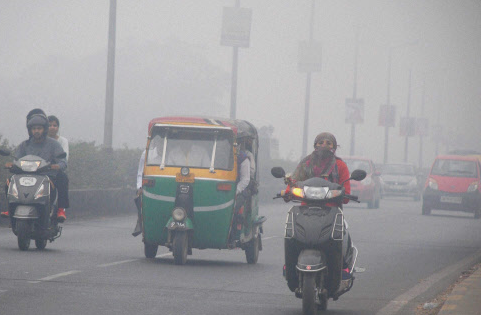backpack: (276, 163, 362, 296), (282, 147, 370, 223), (285, 168, 352, 253), (17, 115, 67, 216), (5, 146, 61, 227), (288, 133, 353, 201), (285, 171, 356, 203), (301, 151, 359, 188), (290, 204, 343, 244), (292, 142, 343, 183), (320, 144, 356, 201), (231, 148, 256, 228), (164, 196, 195, 260), (336, 219, 360, 296), (227, 180, 253, 250), (13, 144, 64, 173), (172, 165, 195, 221), (237, 151, 258, 204), (313, 145, 346, 177), (49, 116, 69, 167), (304, 152, 338, 180), (297, 148, 330, 174), (341, 231, 358, 281), (174, 181, 193, 215), (131, 192, 144, 236), (334, 156, 351, 189), (315, 153, 336, 176), (309, 150, 333, 170), (330, 209, 345, 241), (325, 157, 342, 181), (284, 206, 296, 238), (332, 157, 345, 186), (312, 157, 328, 176), (330, 159, 339, 182), (271, 166, 286, 177)
bicycle: (293, 246, 329, 313), (283, 234, 312, 294)
bottle: (57, 207, 66, 222)
bus: (143, 117, 277, 264), (200, 119, 261, 245), (146, 116, 260, 182), (286, 134, 386, 206)
car: (179, 119, 362, 278), (145, 118, 276, 263), (279, 166, 360, 300), (271, 138, 392, 223), (134, 189, 263, 265), (312, 151, 435, 216), (204, 127, 262, 256), (287, 131, 351, 241), (306, 154, 373, 255), (353, 156, 453, 211), (298, 152, 380, 209), (286, 138, 357, 196), (419, 154, 481, 216), (229, 142, 264, 248), (399, 157, 466, 208), (310, 157, 352, 220), (365, 165, 426, 208), (349, 159, 406, 204), (10, 205, 64, 250), (338, 155, 383, 208), (326, 150, 368, 202), (334, 222, 360, 300), (377, 162, 419, 196), (428, 154, 477, 183), (356, 157, 385, 200), (367, 160, 391, 201), (394, 166, 424, 192), (376, 159, 414, 179), (377, 161, 402, 191), (380, 165, 413, 185), (382, 172, 414, 191), (369, 165, 384, 205), (410, 165, 427, 193), (284, 207, 295, 237), (271, 166, 286, 177)
cell phone: (172, 166, 195, 220), (175, 174, 193, 208), (175, 166, 195, 196), (180, 166, 190, 175)
chair: (131, 190, 145, 236)
clock: (180, 166, 190, 175)
dog: (171, 164, 195, 225)
frisbee: (180, 166, 191, 176)
hair drier: (178, 166, 194, 180), (180, 166, 190, 175)
handbag: (290, 204, 343, 244), (338, 214, 360, 285), (172, 166, 195, 222), (175, 166, 194, 198), (284, 207, 296, 238), (331, 211, 343, 240), (57, 207, 66, 222)
kite: (345, 97, 363, 123), (377, 102, 395, 127)
motorcycle: (229, 143, 362, 303), (145, 118, 276, 263), (284, 169, 373, 311), (298, 157, 394, 274), (265, 165, 353, 277), (134, 189, 263, 265), (287, 131, 351, 241), (8, 114, 69, 223), (293, 187, 359, 284), (4, 151, 66, 251), (280, 146, 377, 208), (286, 226, 353, 312), (275, 195, 330, 296), (329, 182, 372, 304), (301, 160, 355, 256), (268, 162, 350, 225), (264, 165, 310, 261), (1, 134, 49, 214), (230, 143, 263, 254), (283, 139, 350, 192), (37, 137, 71, 227), (275, 165, 317, 227), (9, 203, 64, 250), (293, 247, 329, 313), (285, 239, 325, 296), (6, 172, 50, 222), (272, 171, 339, 202), (334, 225, 360, 301), (163, 206, 194, 264), (272, 170, 303, 202), (280, 184, 306, 201), (275, 182, 295, 201), (272, 189, 300, 202), (272, 192, 289, 201)
mouse: (271, 166, 286, 177), (181, 165, 191, 175)
parking meter: (144, 117, 278, 265), (172, 166, 195, 222)
person: (232, 125, 375, 277), (287, 166, 371, 307), (135, 170, 259, 263), (312, 153, 389, 285), (294, 139, 375, 241), (34, 112, 117, 210), (318, 130, 395, 218), (209, 134, 262, 258), (273, 152, 380, 213), (10, 110, 70, 217), (289, 158, 348, 266), (6, 148, 67, 242), (287, 133, 356, 205), (1, 134, 49, 214), (3, 109, 52, 183), (273, 143, 338, 194), (34, 105, 73, 189), (268, 163, 348, 203), (277, 185, 348, 225), (231, 145, 261, 237), (310, 157, 352, 220), (224, 148, 251, 244), (289, 132, 339, 182), (47, 115, 71, 214), (336, 154, 380, 207), (299, 167, 364, 202), (13, 127, 67, 169), (229, 126, 260, 199), (23, 111, 67, 161), (318, 135, 352, 199), (328, 146, 362, 206), (298, 147, 354, 183), (167, 173, 196, 242), (40, 152, 69, 220), (163, 206, 194, 263), (16, 108, 53, 152), (130, 161, 150, 237), (377, 160, 420, 195), (173, 163, 195, 219), (46, 114, 69, 166), (234, 149, 255, 204), (306, 131, 339, 163), (313, 145, 346, 177), (304, 152, 338, 180), (51, 134, 68, 189), (333, 148, 353, 194), (325, 159, 349, 195), (330, 171, 356, 204), (23, 107, 48, 138), (323, 151, 348, 181), (131, 187, 145, 236), (173, 183, 191, 221), (53, 128, 69, 169), (232, 148, 249, 186), (369, 165, 384, 205), (167, 206, 193, 229), (243, 156, 258, 195), (47, 114, 64, 147), (136, 146, 148, 192), (467, 179, 481, 217), (313, 131, 337, 153), (167, 140, 187, 166), (240, 149, 255, 183), (153, 138, 170, 168), (149, 133, 164, 164), (236, 146, 253, 167), (132, 190, 142, 220), (243, 148, 255, 170), (171, 206, 186, 222), (48, 115, 59, 136), (151, 146, 161, 163), (450, 162, 465, 172)
remote: (178, 166, 194, 180), (180, 166, 190, 175)
skateboard: (271, 166, 285, 178)
skis: (280, 146, 377, 208)
stop sign: (345, 98, 364, 124)
suitcase: (278, 168, 358, 311), (281, 147, 377, 208), (290, 204, 343, 244), (338, 214, 360, 285), (172, 167, 195, 220), (175, 166, 194, 198), (174, 177, 193, 205), (284, 208, 295, 238), (271, 166, 286, 177)
traffic light: (173, 166, 195, 220), (345, 97, 363, 123), (378, 103, 395, 127), (399, 117, 413, 136), (406, 117, 415, 136), (387, 105, 395, 126), (390, 106, 398, 127)
train: (144, 111, 275, 264)
truck: (51, 104, 285, 267), (179, 119, 362, 278), (145, 118, 276, 263), (243, 123, 405, 212), (278, 138, 379, 257), (277, 167, 359, 305), (134, 189, 263, 265), (200, 119, 261, 245), (286, 134, 386, 206), (419, 154, 481, 216), (399, 157, 466, 208), (338, 156, 383, 209), (377, 162, 420, 196)
tv: (345, 97, 364, 124)
